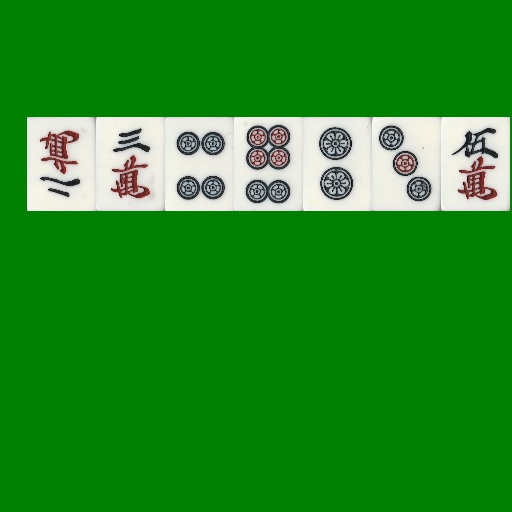2m: (27, 117, 96, 211)
2p: (303, 117, 372, 211)
3m: (96, 117, 165, 211)
3p: (372, 117, 441, 211)
4p: (165, 117, 234, 211)
5m: (441, 117, 510, 211)
6p: (234, 117, 303, 211)
